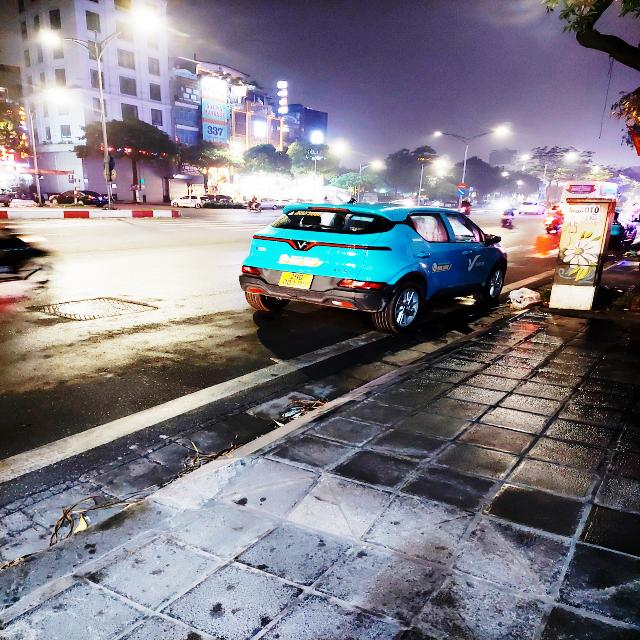license_plate: (277, 270, 317, 292)
